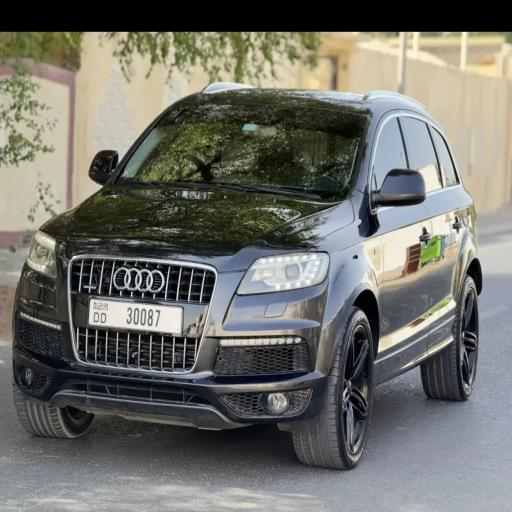license-plates: (88, 299, 182, 334)
